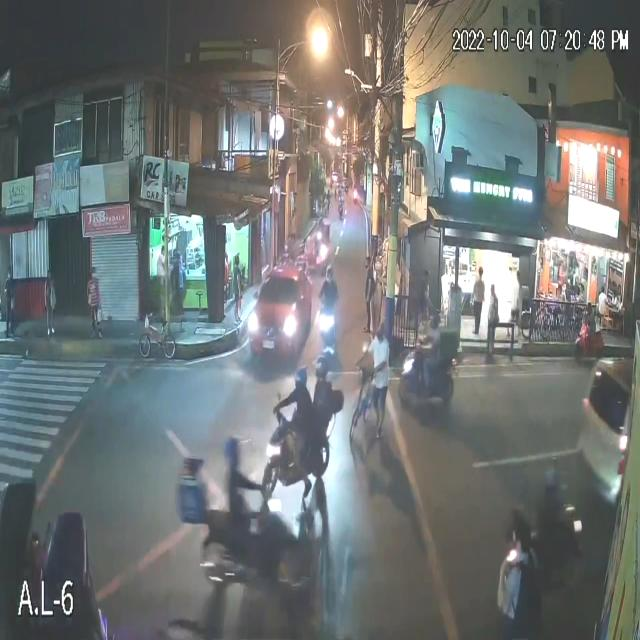Full-Faced: (224, 424, 253, 474), (311, 354, 331, 384), (294, 364, 310, 395)
